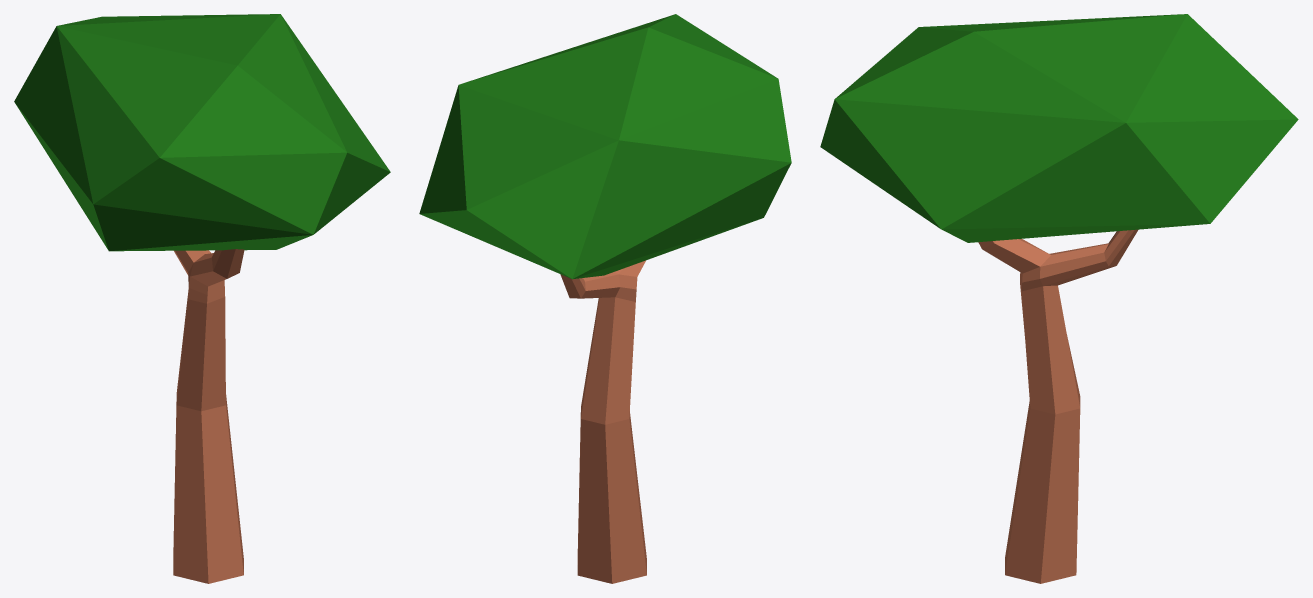
Rendered from Tree_07_summer_vc.fbx.
3 renders of one model, left to right at view 1: azimuth 30°, elevation 25°; view 2: azimuth 150°, elevation 25°; view 3: azimuth 270°, elevation 25°, orthographic. The views are drawn at different scales.
Visible parts, largest first — view 1: Tree_07_summer_vc; view 2: Tree_07_summer_vc; view 3: Tree_07_summer_vc.
Boxes of the visible parts, box(x1,y1,x2,y2) form: Tree_07_summer_vc: box(14, 14, 390, 583); Tree_07_summer_vc: box(419, 14, 791, 583); Tree_07_summer_vc: box(820, 14, 1298, 583).
Bounding box in the file's own units: 3.48 × 6.19 × 5.04.
